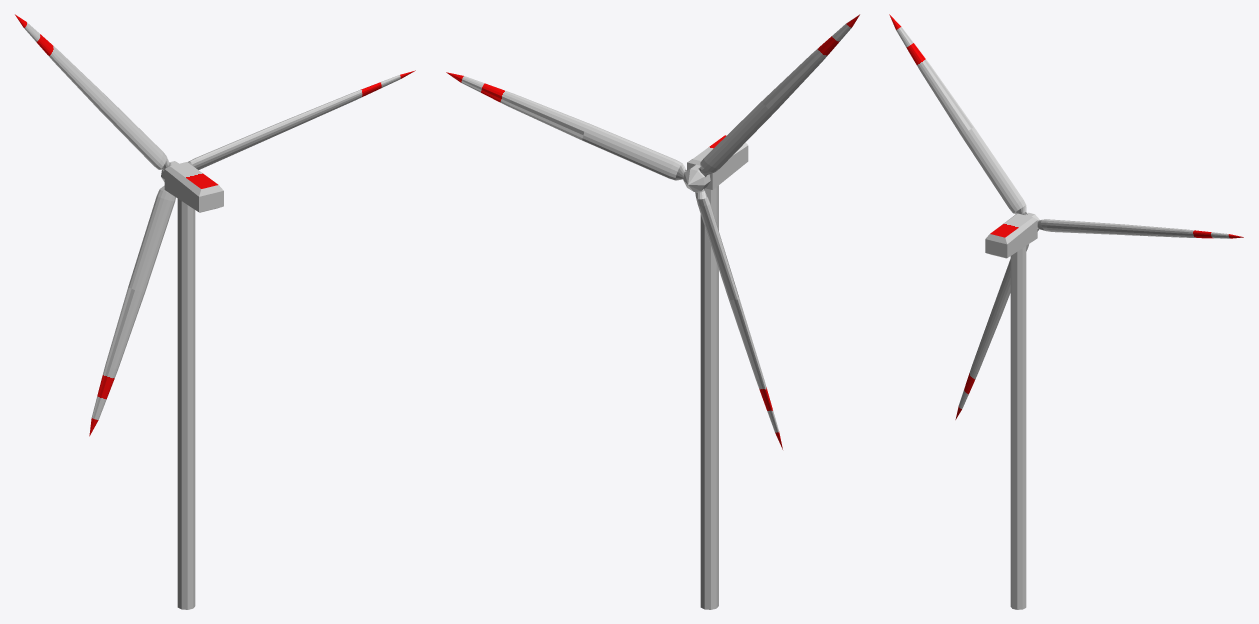
Rendered from CO_WindTurbine.glb.
The picture shows the model from 3 angles, left to right: view 1: azimuth 30°, elevation 25°; view 2: azimuth 150°, elevation 25°; view 3: azimuth 330°, elevation 25°; orthographic projection. The views are drawn at different scales.
Visible parts, largest first — view 1: Object_2; view 2: Object_2; view 3: Object_2.
Part boxes in pixels (<box>): Object_2: <box>15,14,415,609</box>; Object_2: <box>446,14,859,609</box>; Object_2: <box>889,14,1243,609</box>.
Bounding box in the file's own units: 2.53 × 3.73 × 0.5.
1 material, 1 textured.
